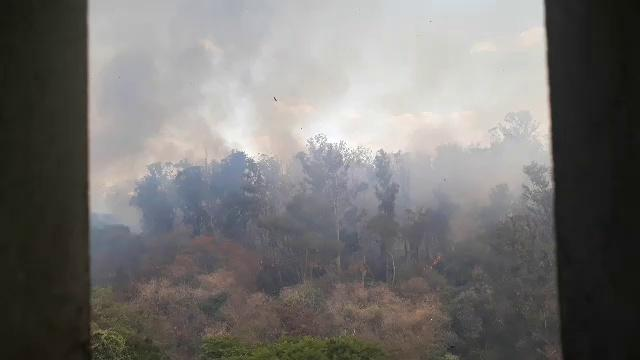smoke: (93, 73, 173, 142), (258, 56, 311, 120)
